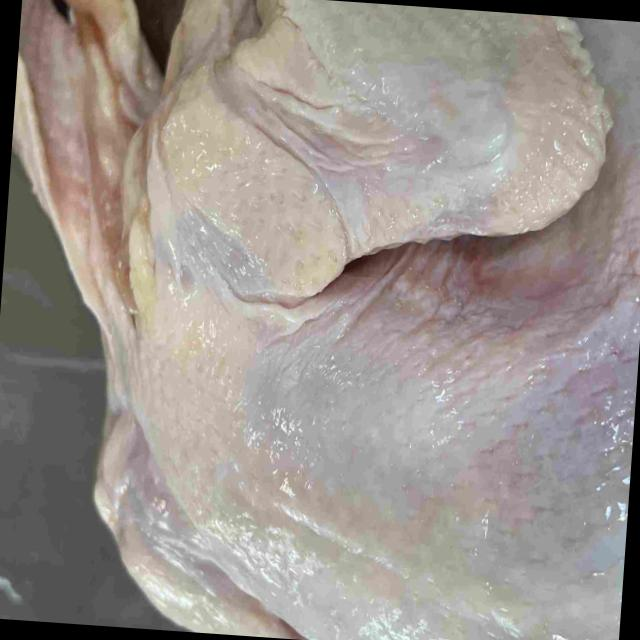back: (211, 342, 637, 640)
neck: (11, 0, 156, 339)
wing: (149, 0, 607, 311), (90, 399, 283, 638)
